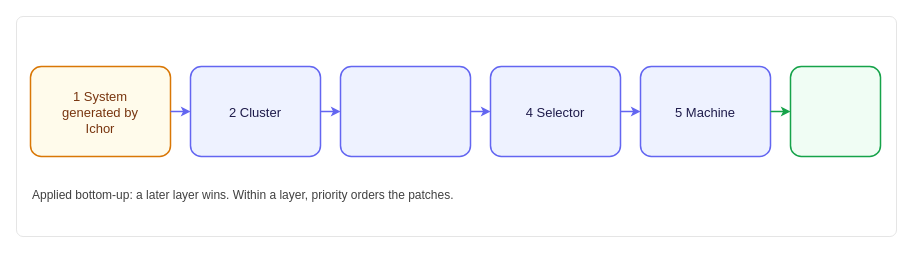
Image size: 913x253. Some labels were removed from this diagram. The shapes that lost their labels are listed below. From the top down, each one's centre as x and y in pixels, then its label:
At (x=405, y=111): "3 Role".
At (x=835, y=111): "Rendered config".
